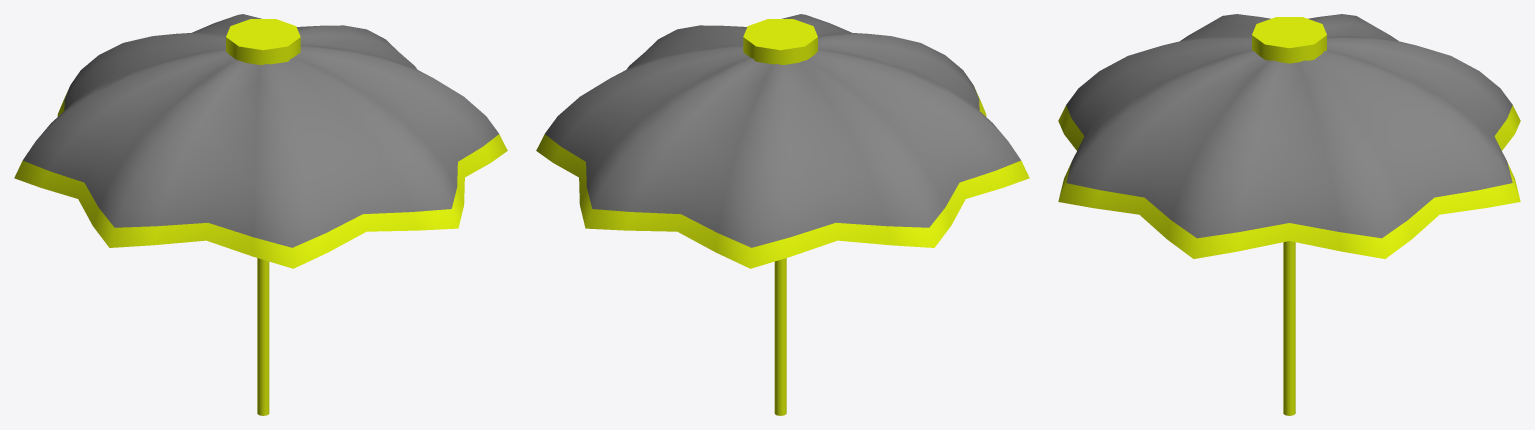
File: paraguas.fbx
The picture shows the model from 3 angles, left to right: view 1: azimuth 30°, elevation 25°; view 2: azimuth 150°, elevation 25°; view 3: azimuth 270°, elevation 25°; orthographic projection.
Parts seen in each view (by area): view 1: Sphere001, Cylinder001, Cylinder002; view 2: Sphere001, Cylinder001, Cylinder002; view 3: Sphere001, Cylinder001, Cylinder002.
Part boxes in pixels (box(x1,y1,x2,y2)): Sphere001: box(14, 14, 507, 268); Cylinder001: box(226, 19, 300, 64); Cylinder002: box(257, 258, 269, 415); Sphere001: box(536, 14, 1029, 268); Cylinder001: box(743, 19, 817, 64); Cylinder002: box(774, 258, 786, 415); Sphere001: box(1058, 14, 1520, 258); Cylinder001: box(1252, 17, 1326, 63); Cylinder002: box(1283, 241, 1295, 415).
Size of the model in its own units: 0.5761 by 0.5239 by 0.5761.
